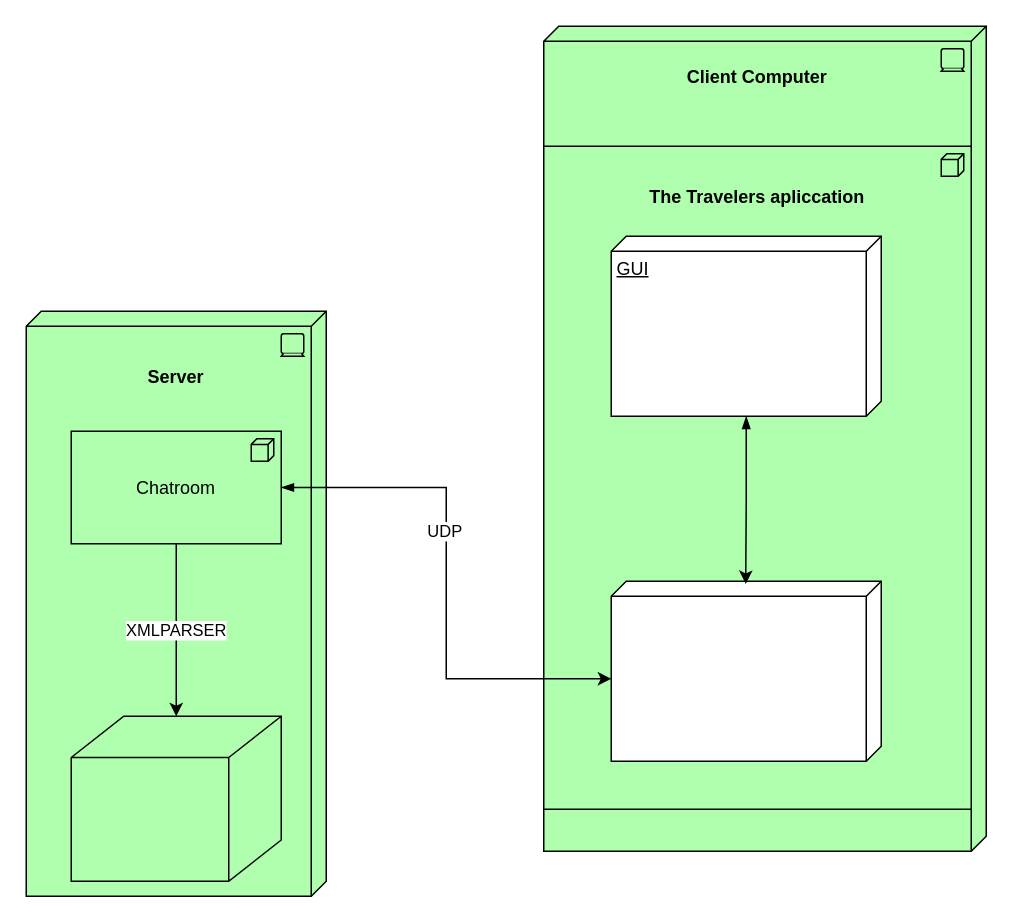
Some shapes in this 1013 by 923 pixel diagram are drawn without their labels. Each missing label, with the centre of its shape:
:DBServer: the point at 175,798
Client: the point at 745,670
